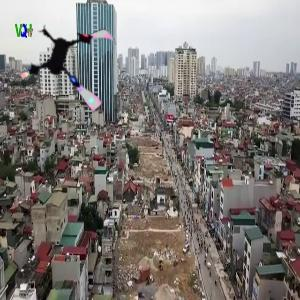drone: (18, 13, 127, 122)
